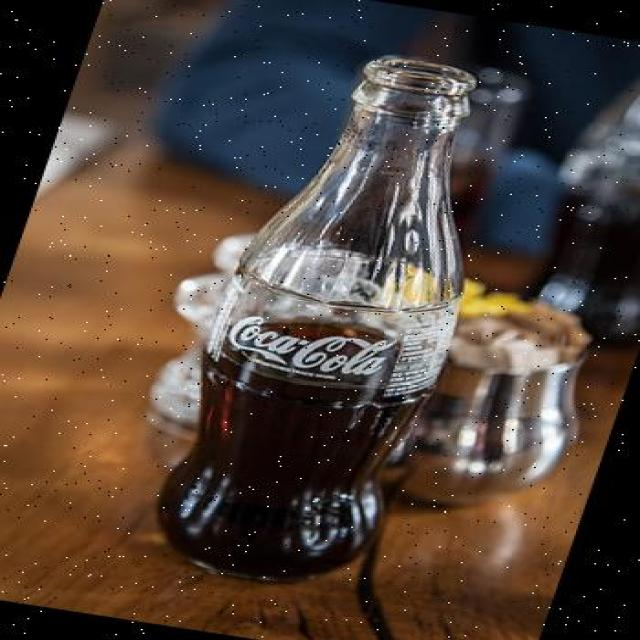coca-cola: (110, 34, 552, 605)
